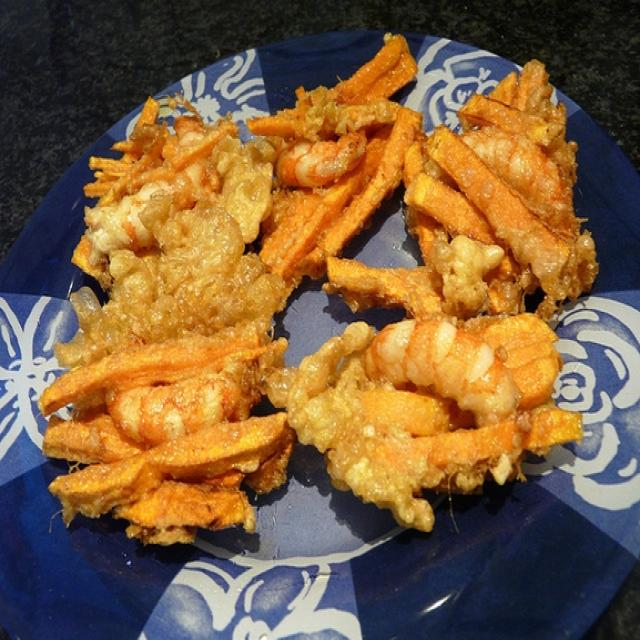炸货点心: (21, 27, 603, 591)
熟制海鲜: (21, 27, 603, 591)
